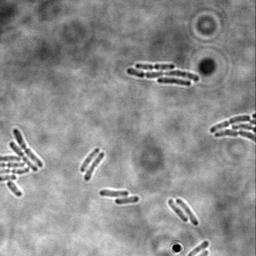Dividing: (82, 151, 106, 182)
Microcolony: (0, 127, 44, 198), (124, 61, 200, 87), (209, 112, 255, 143)
Rod: (176, 198, 200, 226), (79, 146, 101, 174), (168, 198, 189, 223), (98, 188, 130, 199), (114, 194, 140, 206)
